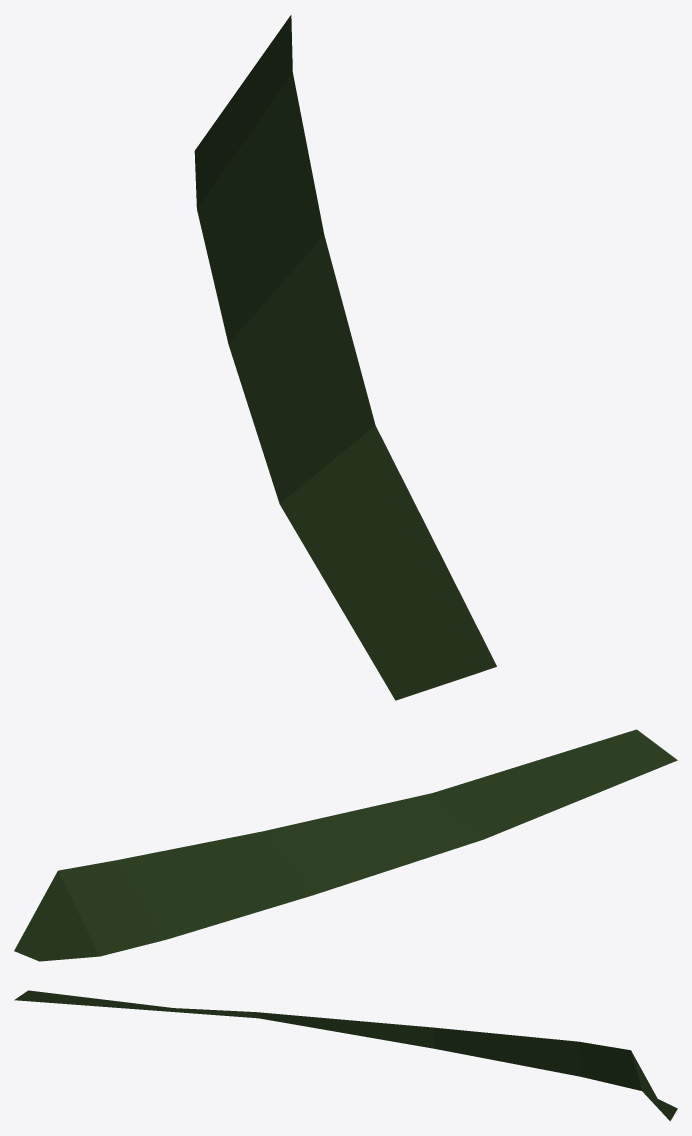
The model's file is kopec5.fbx.
3 renders of one model, top to bottom at view 1: azimuth 30°, elevation 25°; view 2: azimuth 150°, elevation 25°; view 3: azimuth 270°, elevation 25°, orthographic. The views are drawn at different scales.
Visible parts, largest first — view 1: kopec5; view 2: kopec5; view 3: kopec5.
Boxes of the visible parts, box(x1,y1,x2,y2) form: kopec5: box(194, 15, 496, 700); kopec5: box(14, 729, 677, 961); kopec5: box(14, 990, 677, 1121).
Size of the model in its own units: 6288 by 2938 by 646.
